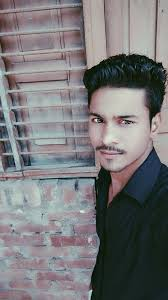Indian_Male: (81, 67, 166, 175)
